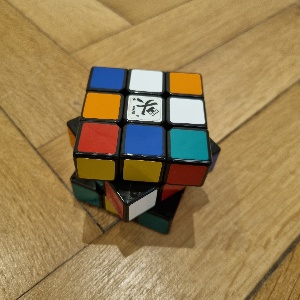cube: (68, 66, 221, 236)
